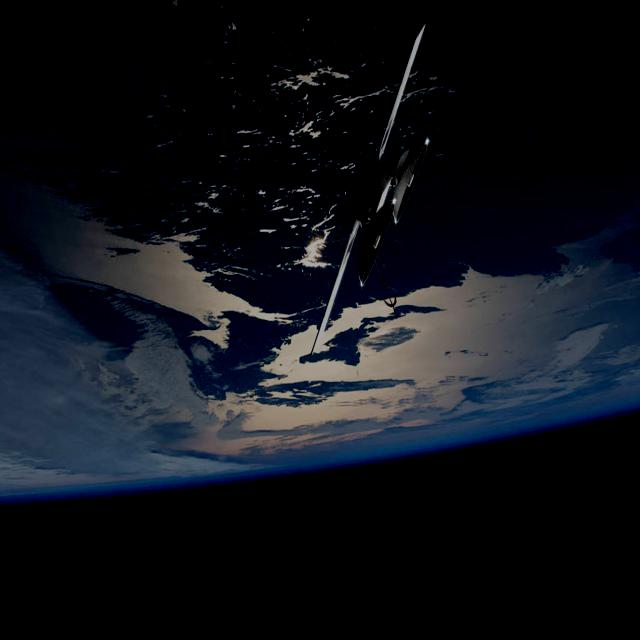satellite: (291, 9, 451, 367)
